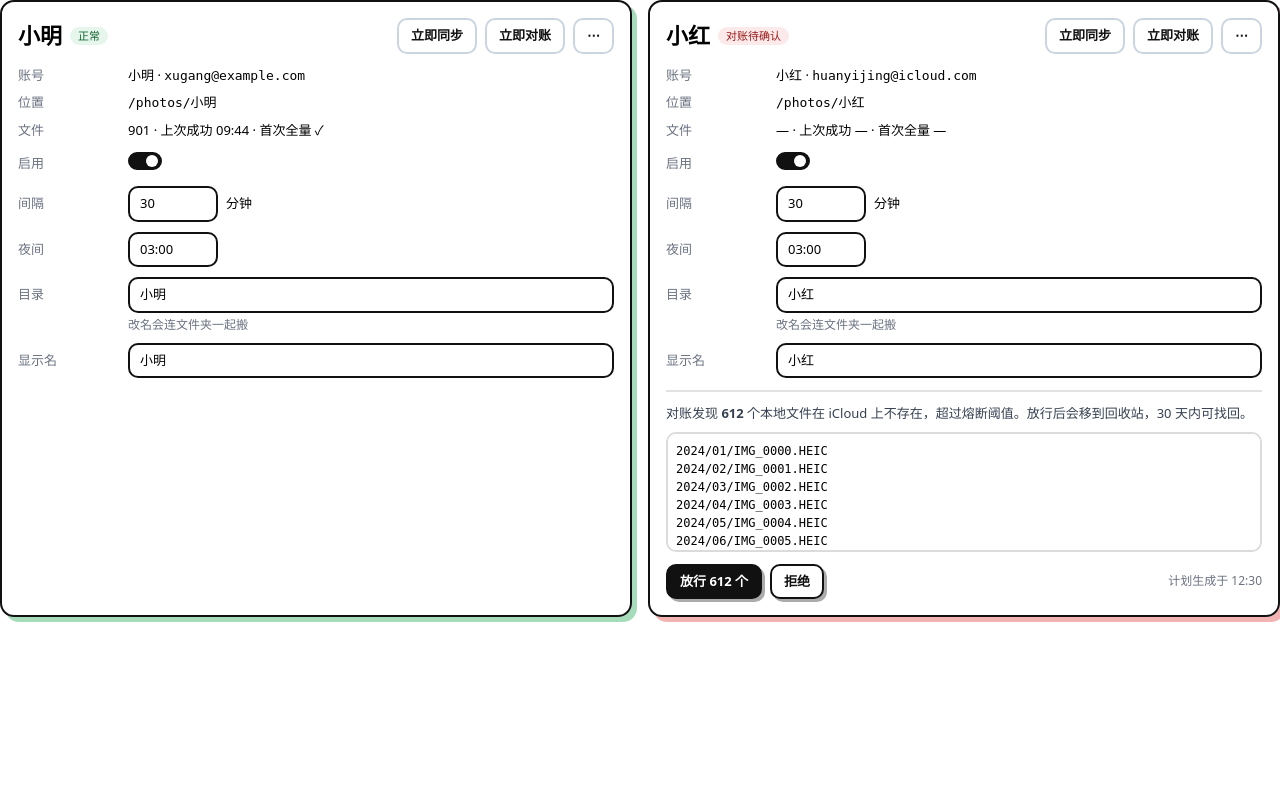
Test: LibraryCard › ⋯ menu pauses
Click the button named "更多" at [594, 36], box [573, 18, 614, 54]
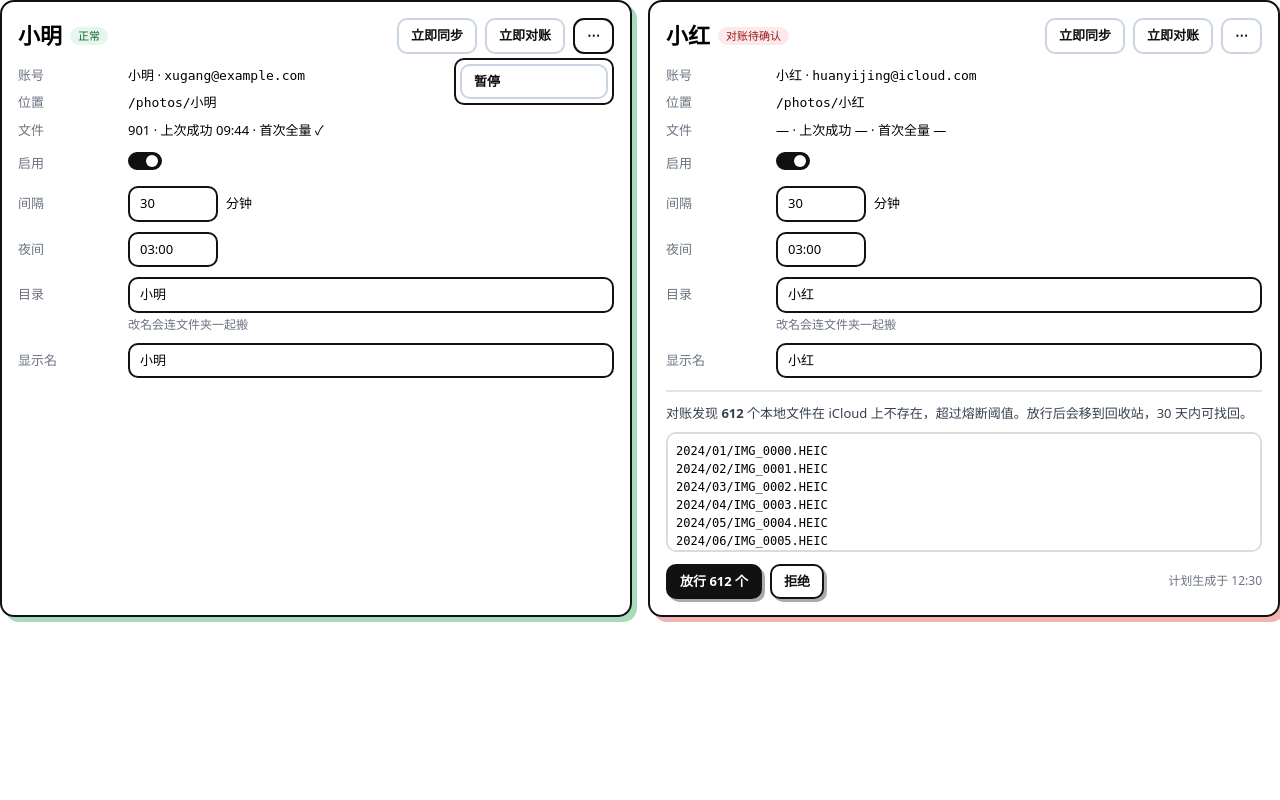
Click the button "暂停" at [534, 81], box [460, 64, 608, 99]
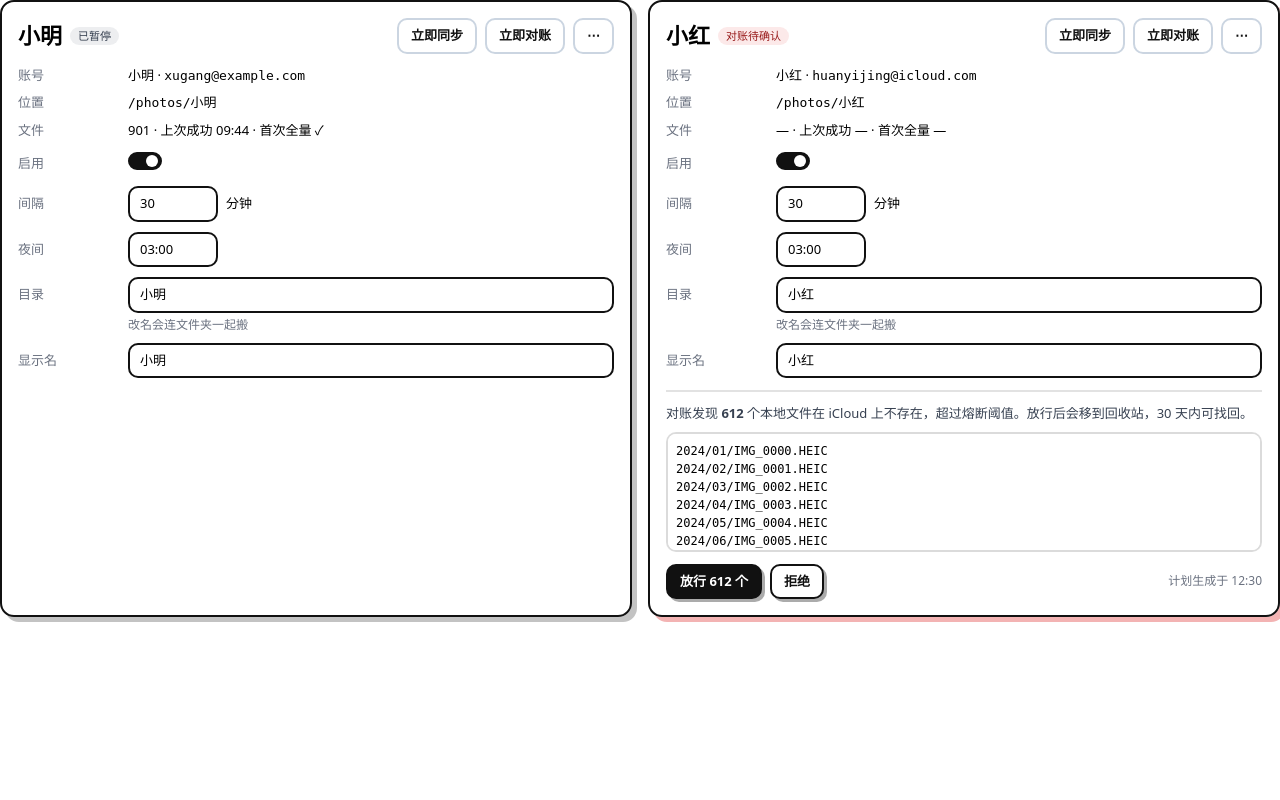
Expected: the text "已暂停" is shown, [70, 27, 119, 45]
